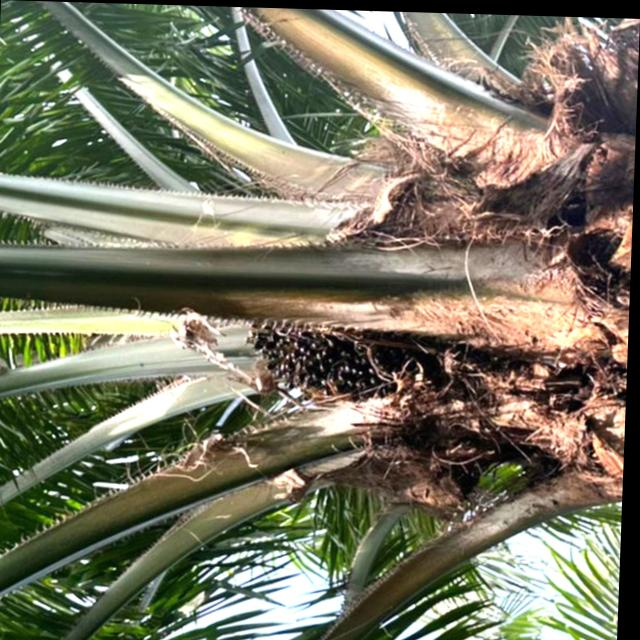almost: (239, 306, 421, 408)
